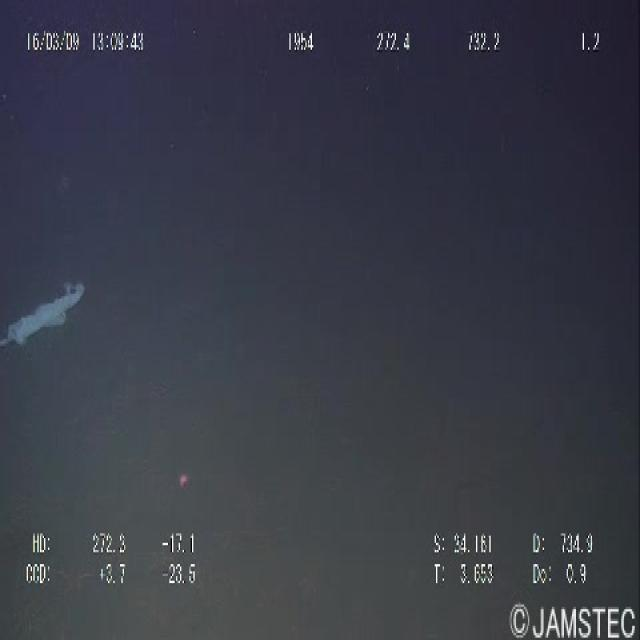plastic: (0, 265, 89, 353)
